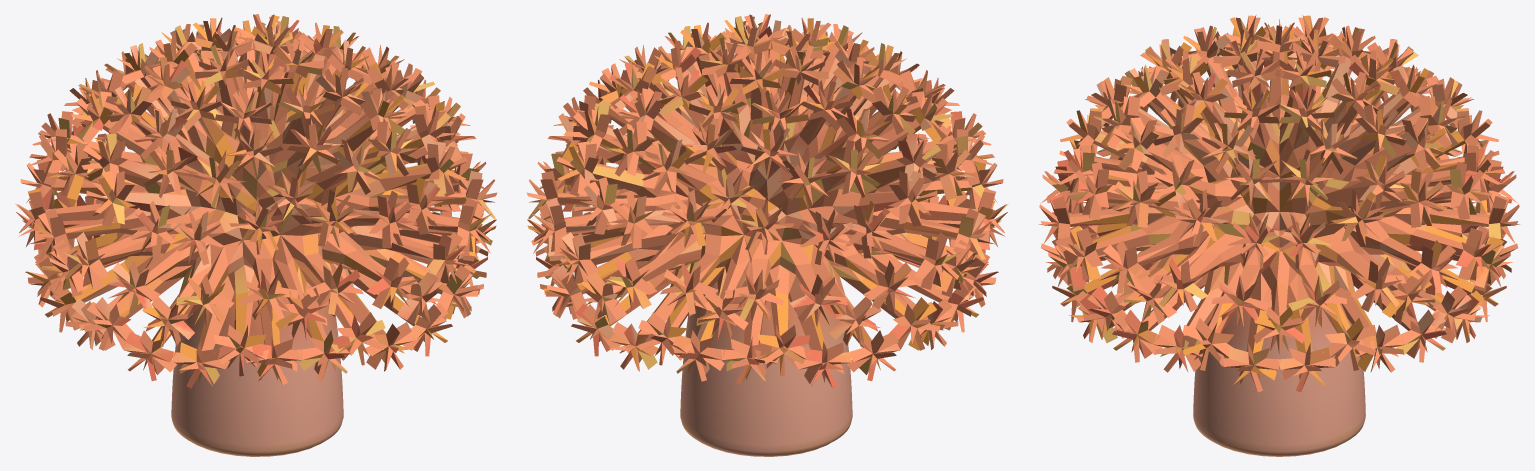
The model's file is coral.fbx.
The picture shows the model from 3 angles, left to right: view 1: azimuth 30°, elevation 25°; view 2: azimuth 150°, elevation 25°; view 3: azimuth 270°, elevation 25°; orthographic projection.
Parts seen in each view (by area): view 1: coral; view 2: coral; view 3: coral.
Part boxes in pixels (x1=…): coral: x1=15, y1=14, x2=497, y2=456; coral: x1=526, y1=14, x2=1008, y2=456; coral: x1=1038, y1=15, x2=1520, y2=456.
Bounding box in the file's own units: 435 × 385 × 433.
Materials: 1 (1 with a texture image).
